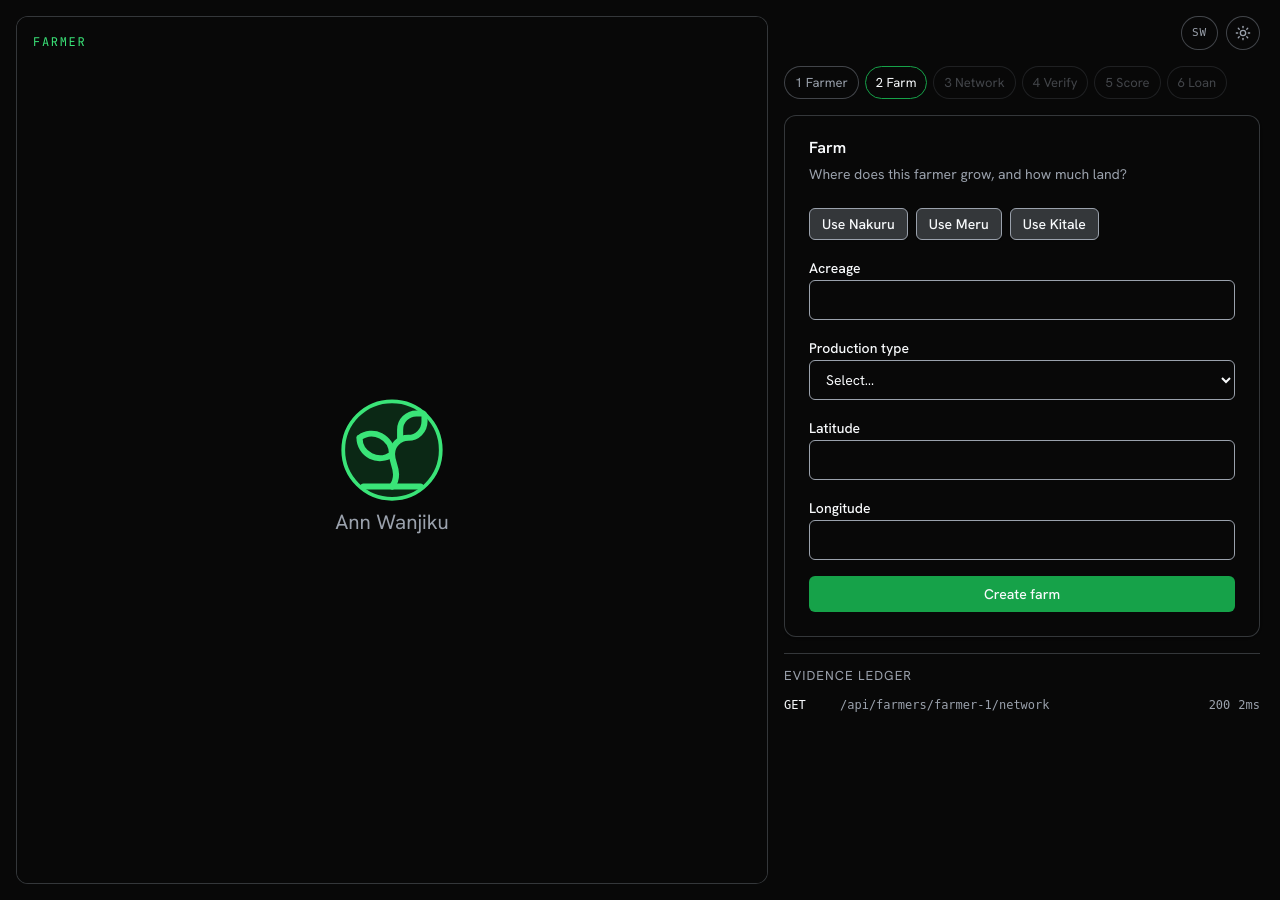
Test case: Step 2 — Farm › rejects an out-of-range latitude inline
Click the button "Use Nakuru".
click(858, 224)  # box [809,208,908,240]
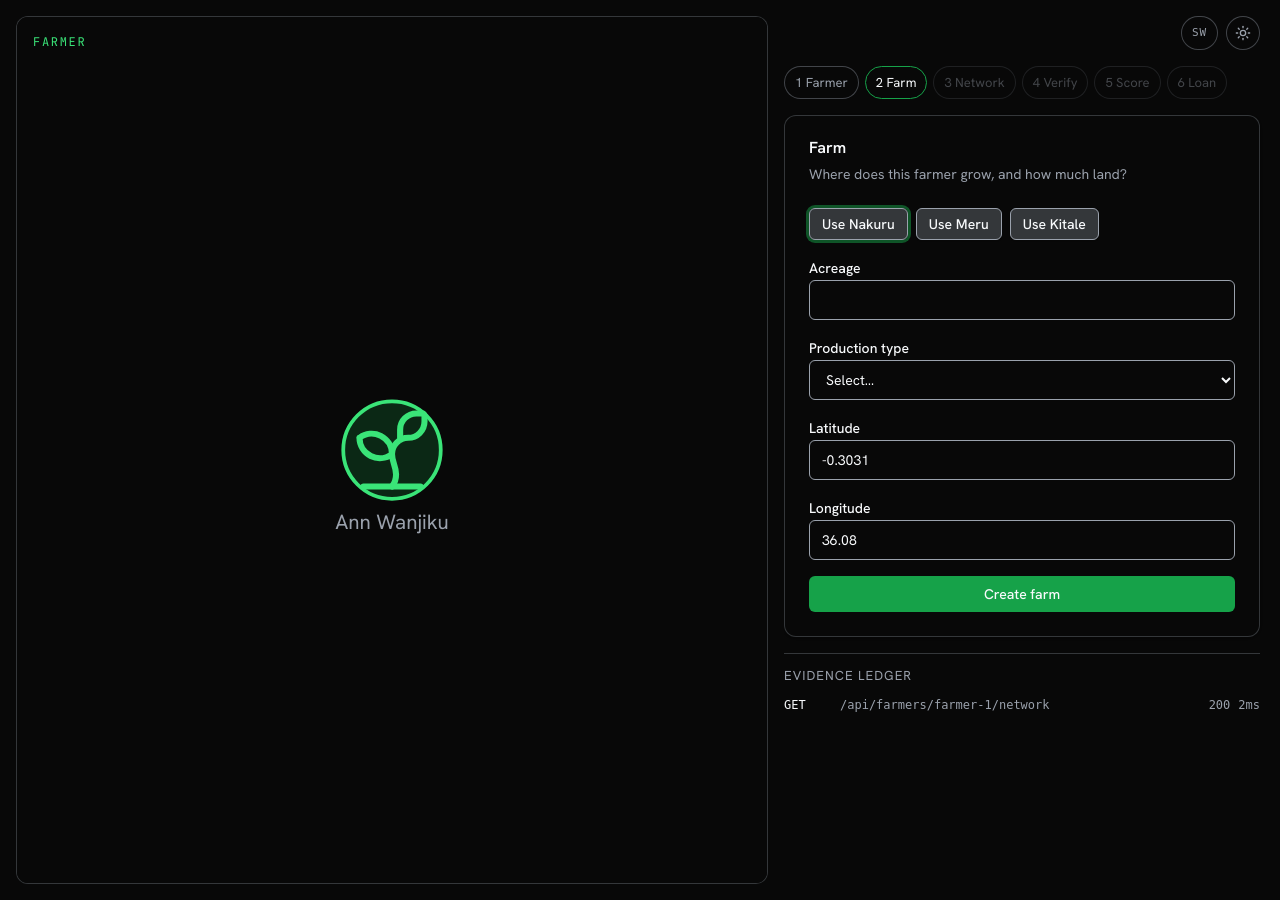
Replace the text in the field labelled "Latitude" with "200" at (1022, 460), box [809,440,1235,480]
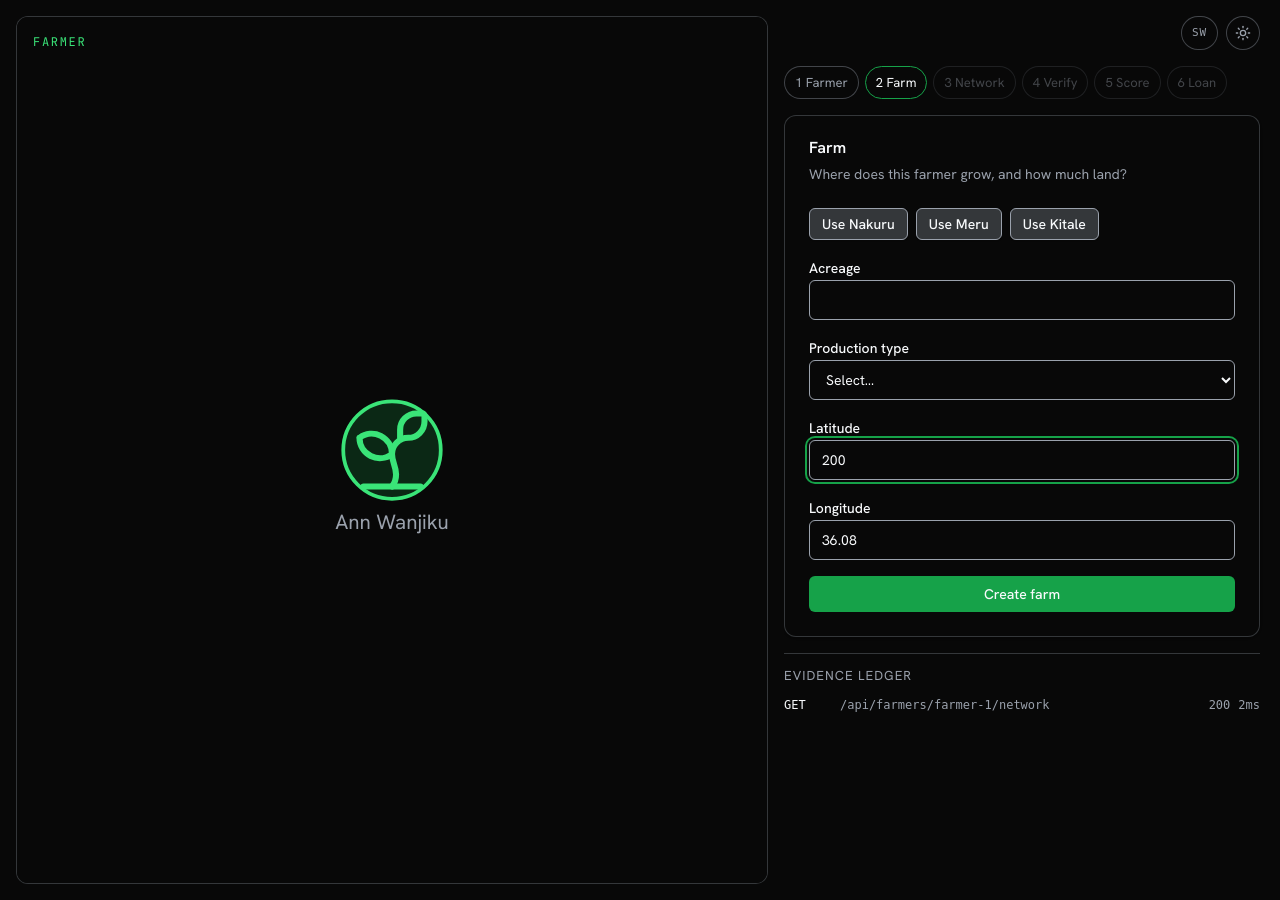
Select "Crop" in the dropdown labelled "Production type" at (1022, 380), box [809,360,1235,400]
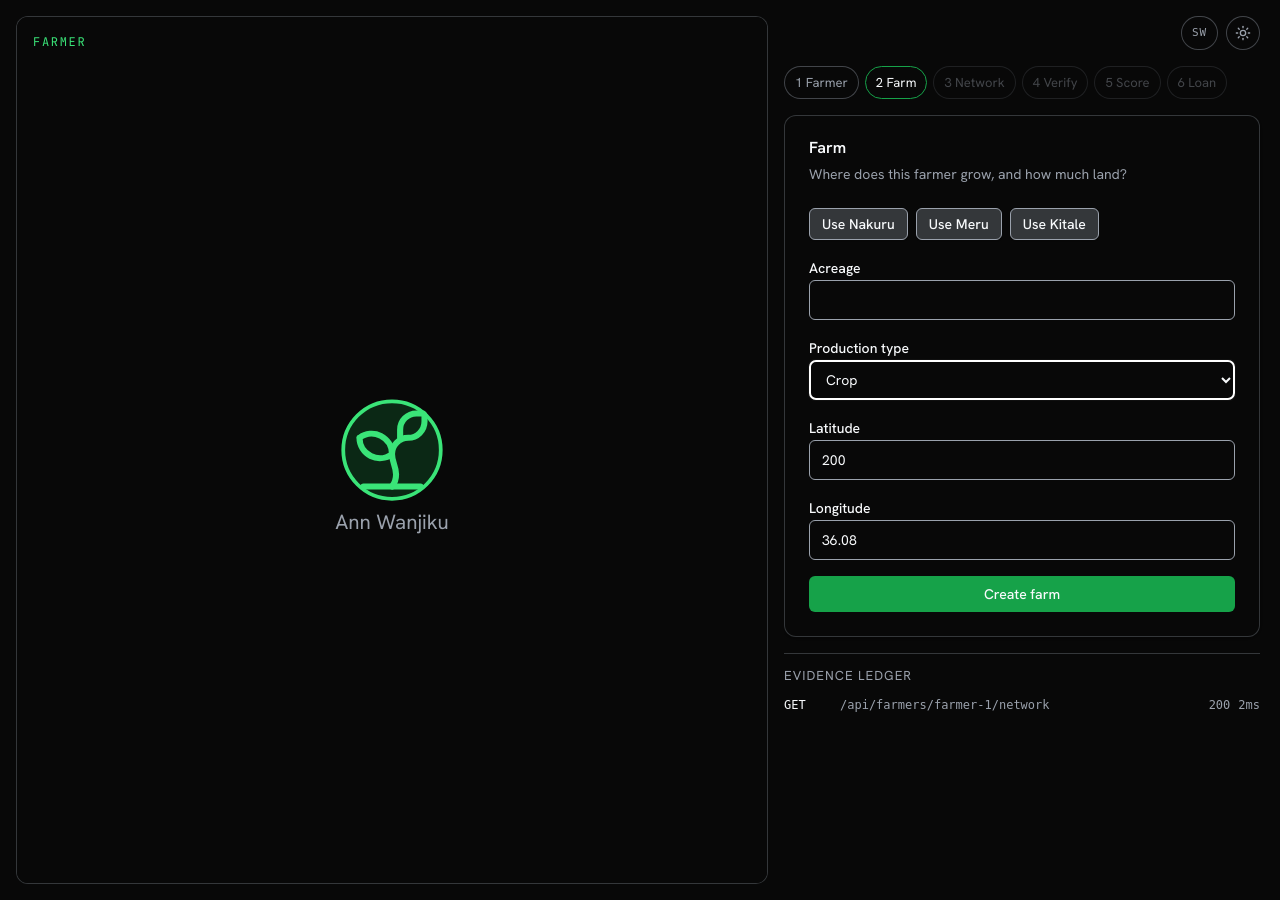
Type "2.5" into the field labelled "Acreage".
click(1022, 300); type("2.5")  # box [809,280,1235,320]
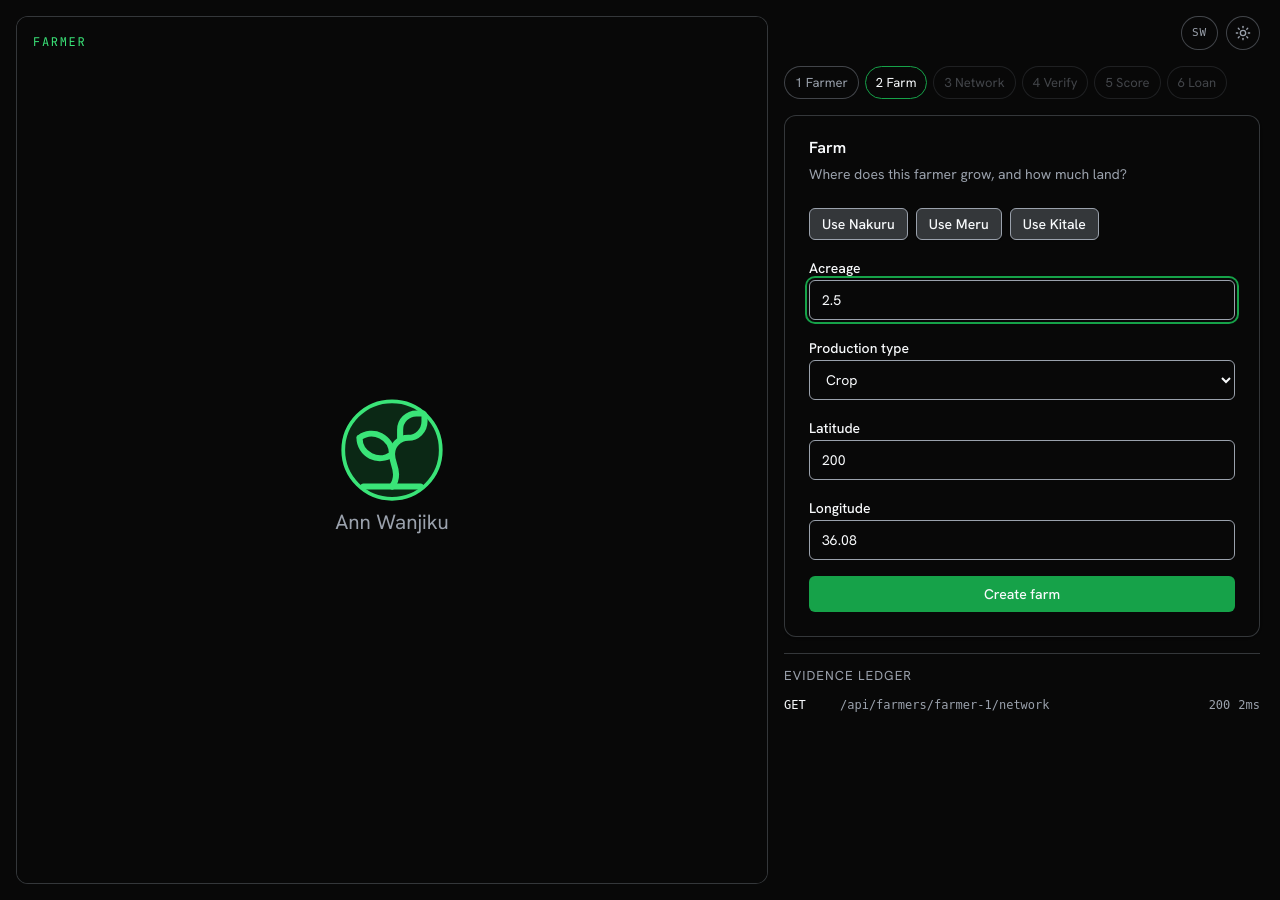
Click the button "Create farm".
click(1022, 594)  # box [809,576,1235,612]
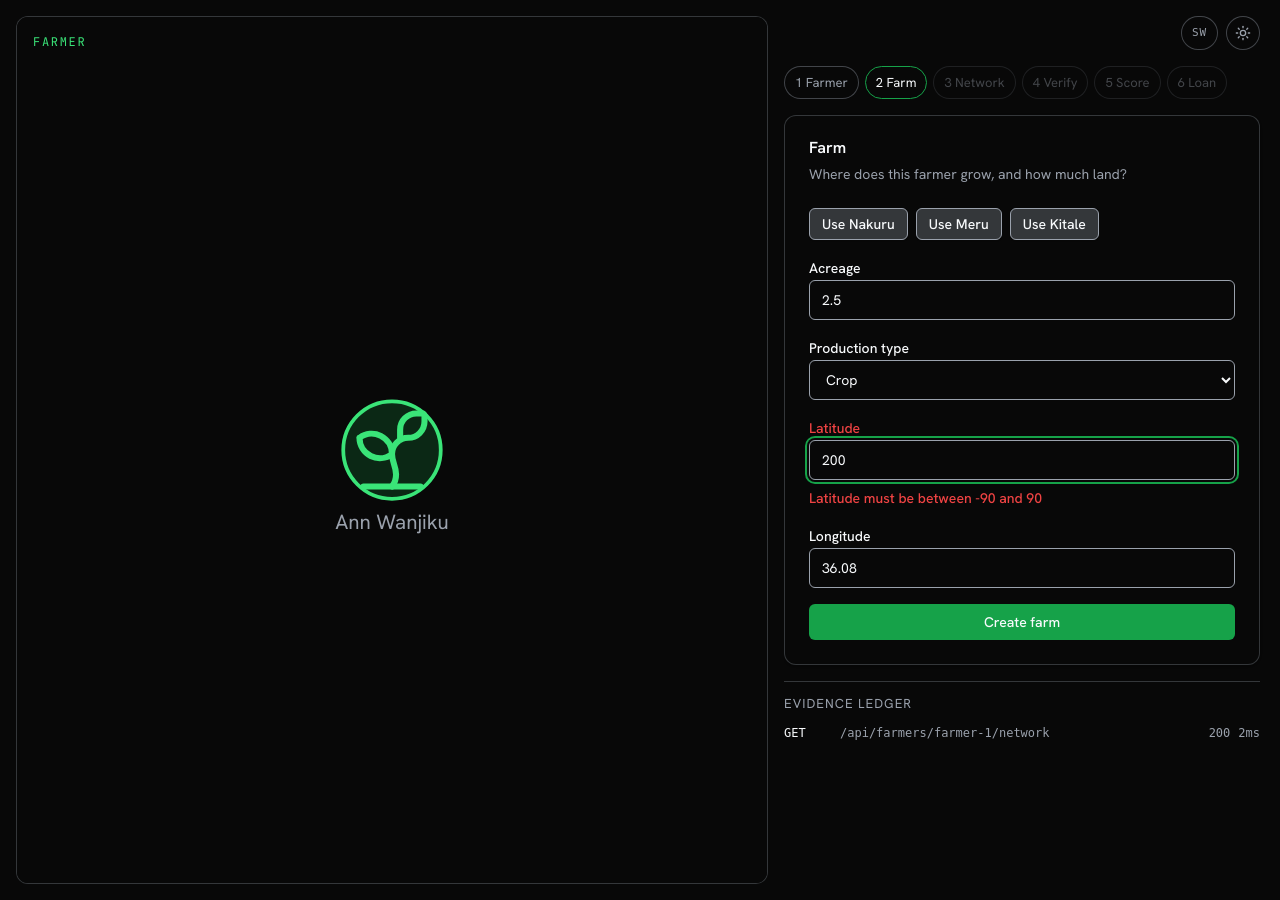
Expected: the text "Latitude must be between -90 and 90" is shown, [809,489,1042,507]
